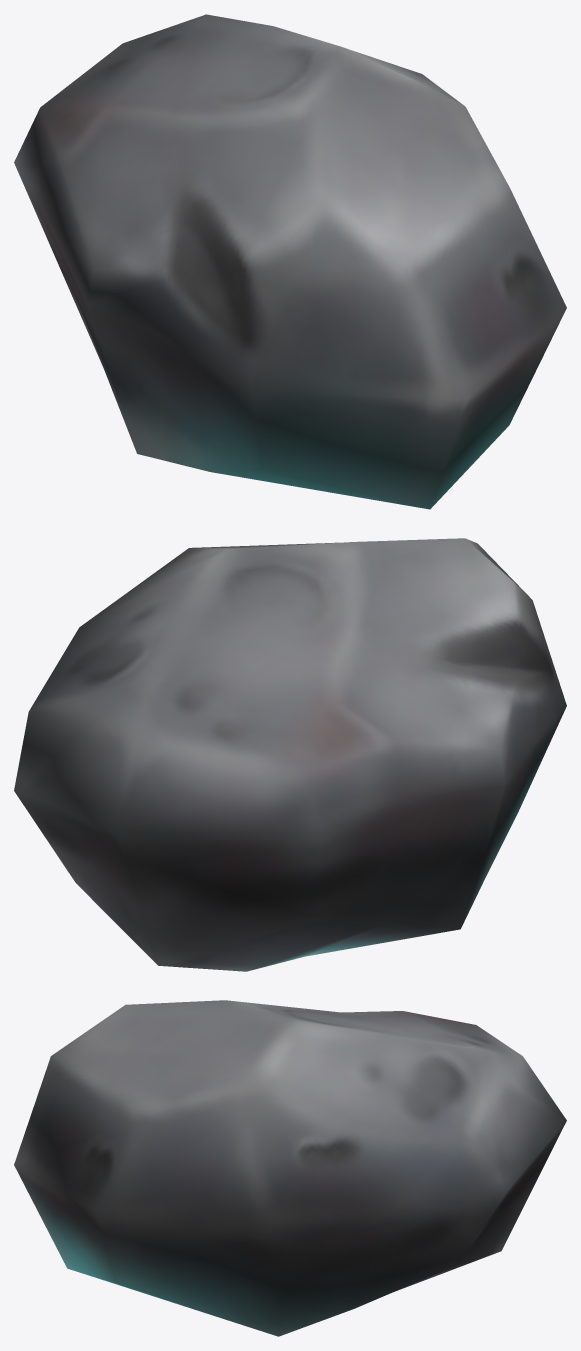
Rendered from particle_Rock04.fbx.
3 renders of one model, top to bottom at view 1: azimuth 30°, elevation 25°; view 2: azimuth 150°, elevation 25°; view 3: azimuth 270°, elevation 25°, orthographic. The views are drawn at different scales.
Visible parts, largest first — view 1: rock_04; view 2: rock_04; view 3: rock_04.
Part boxes in pixels (box(x1,y1,x2,y2)): rock_04: box(14, 14, 566, 509); rock_04: box(14, 538, 566, 971); rock_04: box(14, 1000, 566, 1336).
Bounding box in the file's own units: 0.2687 × 0.2581 × 0.3978.
